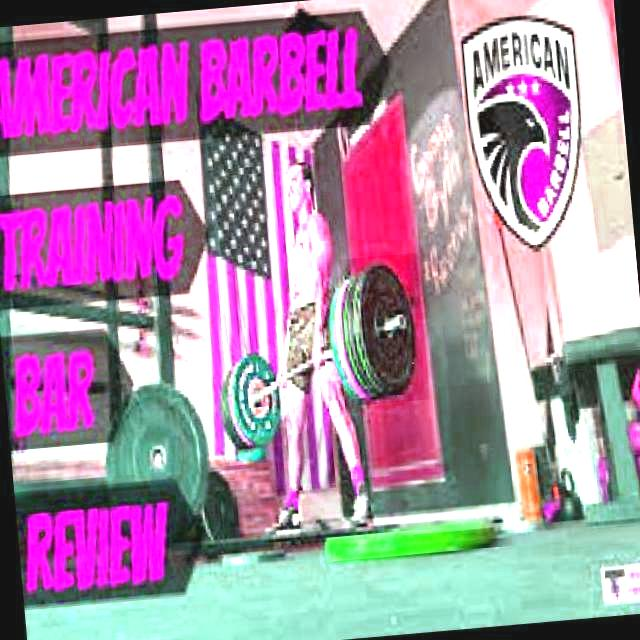barbell: (340, 253, 430, 407)
